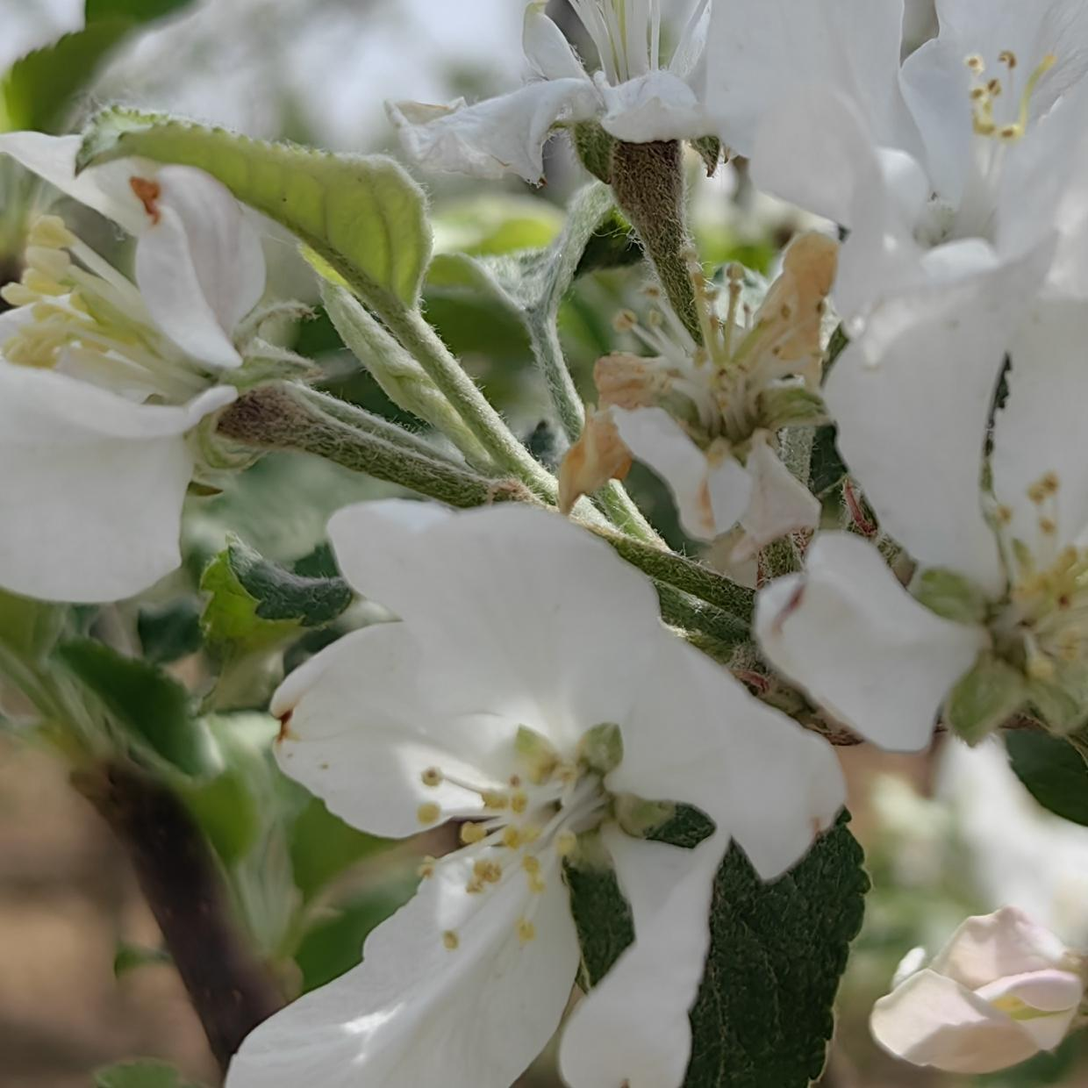apple_flower: (467, 0, 1088, 747), (228, 483, 839, 1088), (0, 132, 386, 601), (873, 908, 1085, 1072)
